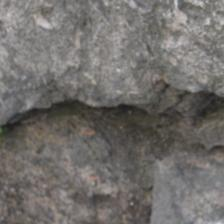Crack: (10, 80, 215, 139)
